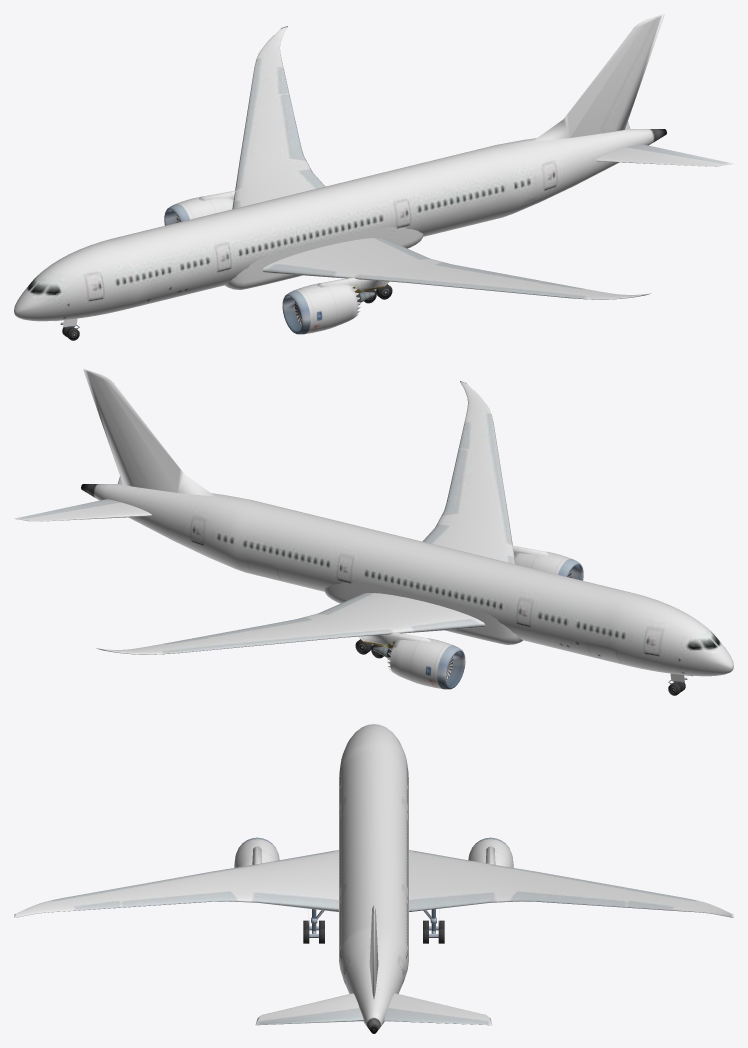
The picture shows the model from 3 angles, top to bottom: view 1: azimuth 30°, elevation 25°; view 2: azimuth 150°, elevation 25°; view 3: azimuth 270°, elevation 25°; orthographic projection.
Parts seen in each view (by area): view 1: airframe, gear; view 2: airframe, gear; view 3: airframe, gear.
Part boxes in pixels (bbox=[...]): airframe: bbox=[14, 14, 733, 334]; gear: bbox=[55, 284, 392, 340]; airframe: bbox=[15, 369, 733, 689]; gear: bbox=[355, 639, 692, 695]; airframe: bbox=[14, 724, 733, 1033]; gear: bbox=[303, 909, 444, 943].
Bounding box in the file's own units: 62.65 × 16.56 × 60.04.
Materials: 1 (1 with a texture image).
